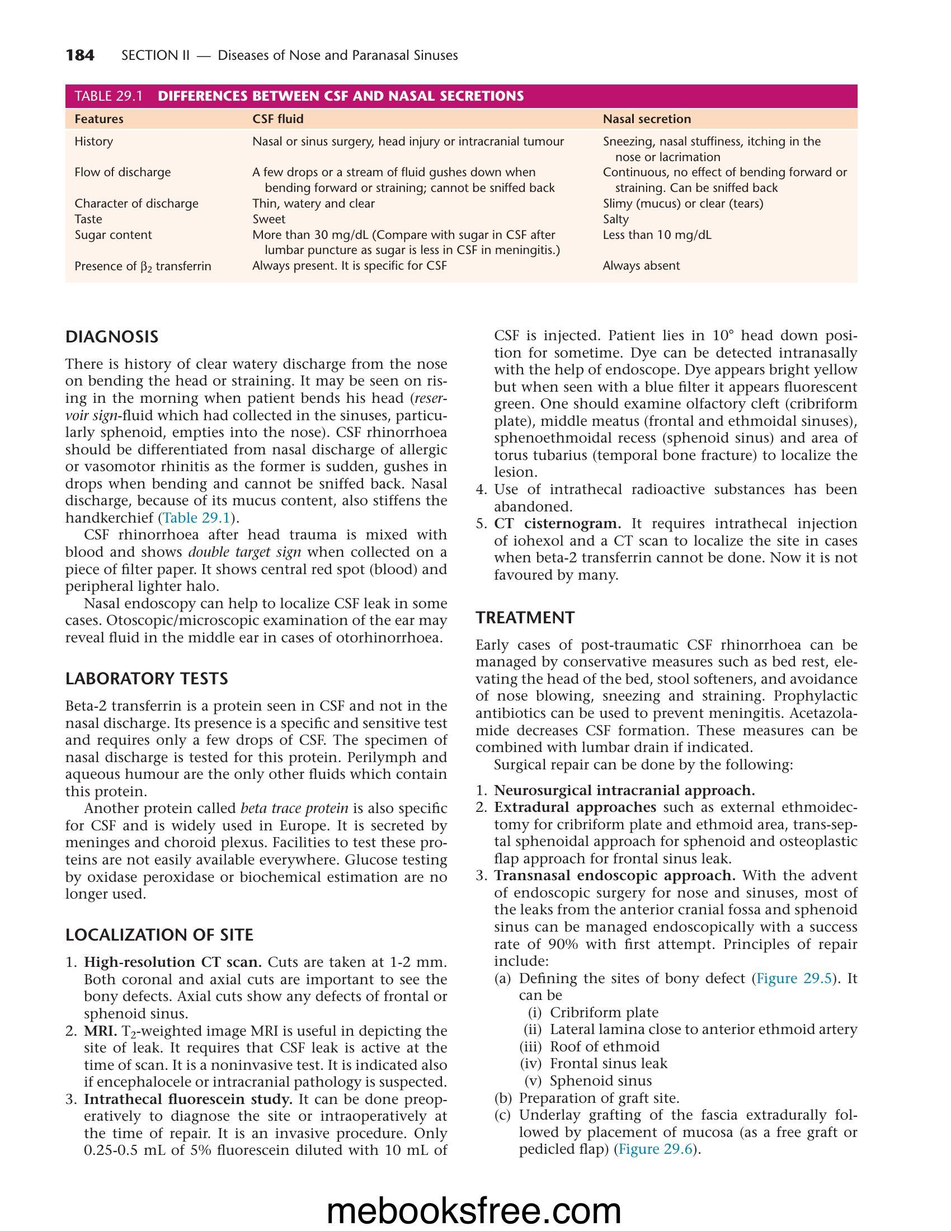caption: (73, 89, 525, 102)
header: (120, 48, 459, 62)
list: (474, 781, 859, 1159), (474, 328, 859, 584), (64, 955, 449, 1157)
section-heading: (65, 927, 255, 942), (65, 670, 228, 686), (474, 609, 577, 626), (66, 329, 159, 344)
table: (64, 109, 858, 284)
text: (64, 357, 449, 644), (64, 698, 449, 903), (475, 637, 859, 774)
